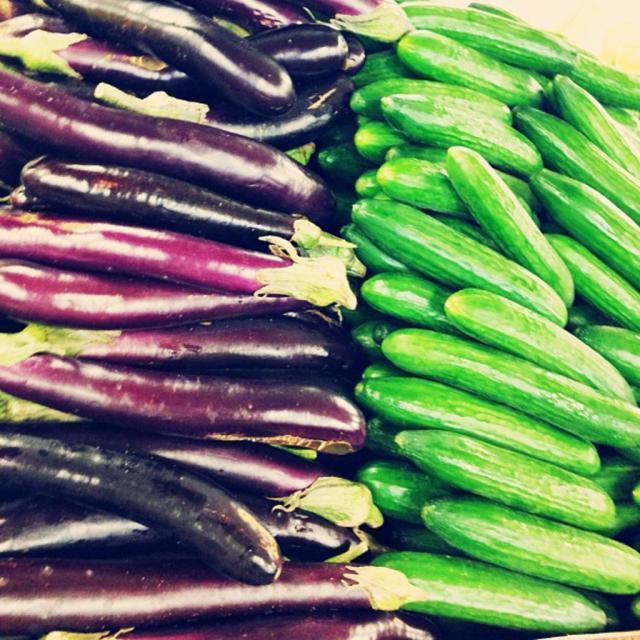Zucchini: (0, 0, 639, 639), (369, 260, 456, 328)
